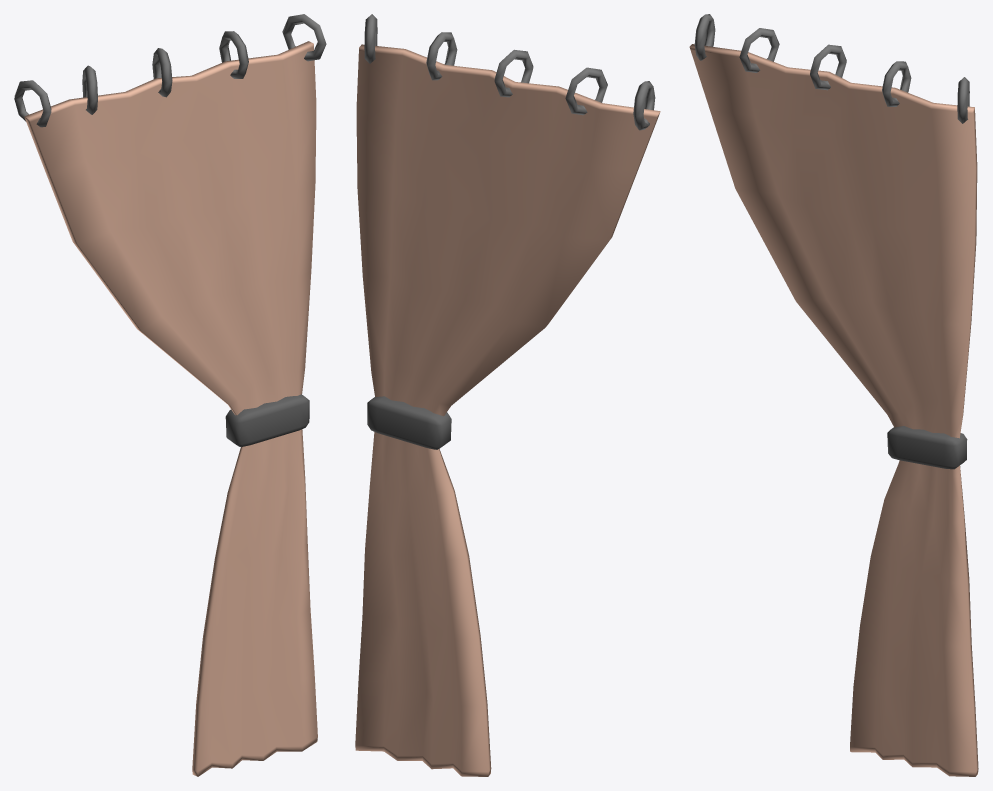
Rendered from curtain_024.fbx.
3 views of the same model, side by side, from view 1: azimuth 30°, elevation 25°; view 2: azimuth 150°, elevation 25°; view 3: azimuth 330°, elevation 25° (orthographic). The views are drawn at different scales.
Parts seen in each view (by area): view 1: curtain_024; view 2: curtain_024; view 3: curtain_024.
Part boxes in pixels (x1,y1,x2,y2): curtain_024: [14, 14, 326, 776]; curtain_024: [355, 14, 660, 776]; curtain_024: [689, 14, 978, 776].
Size of the model in its own units: 147 by 22.83 by 348.
